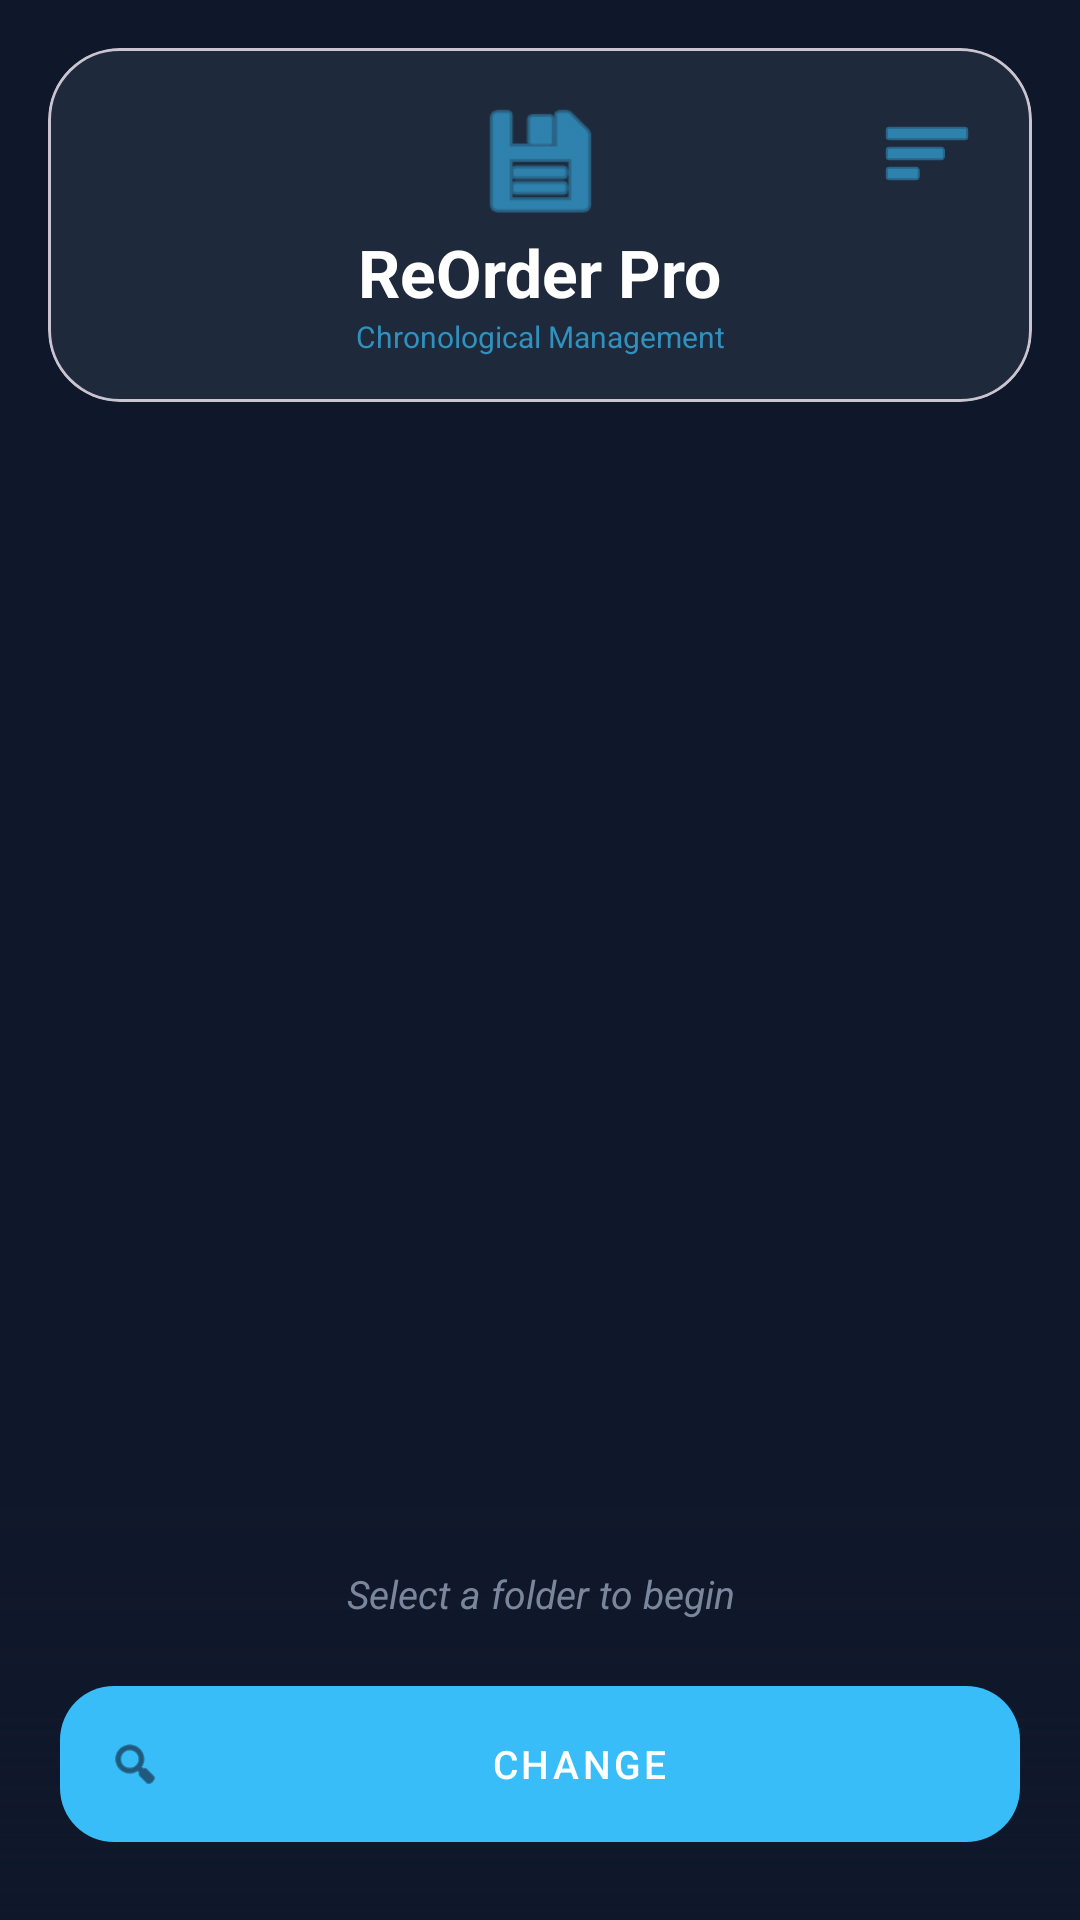

Where icons sit on this 1080px x 1920px app screen, as (x1, y1, x2, y2):
save: (490, 110, 591, 213)
sort by size: (886, 127, 968, 180)
